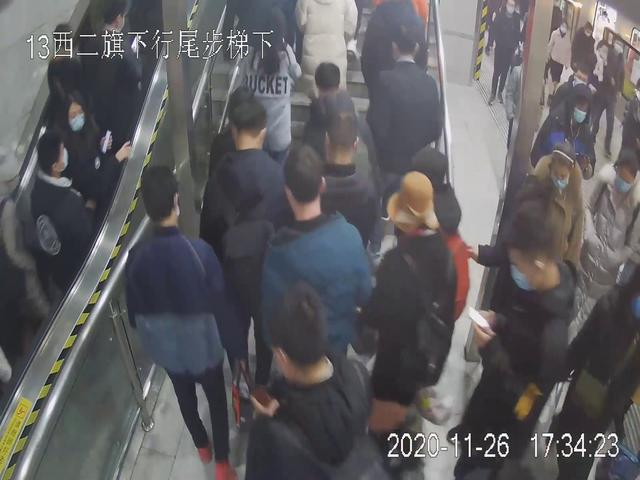person: (123, 163, 249, 480), (259, 145, 383, 437), (358, 167, 467, 456), (463, 222, 572, 480), (242, 292, 365, 479), (192, 97, 286, 325), (369, 18, 449, 221), (26, 130, 109, 319), (573, 149, 640, 343), (479, 1, 534, 103), (546, 19, 574, 105)
